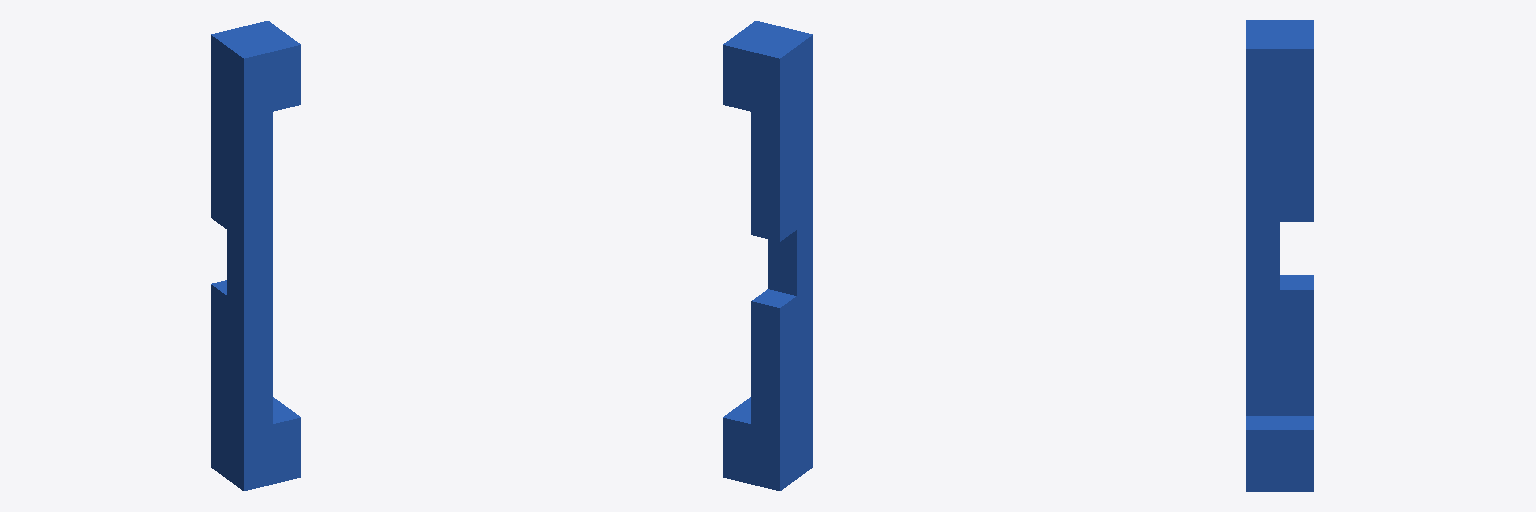
robot.urdf — obj_4:
<robot name="obj_4" version="1.0">
  <link name="obj_4">
    <collision name="long-piece-3-collision.001">
      <origin rpy="0.00000 0.00000 0.00000" xyz="0.00000 0.00000 0.00000"/>
      <geometry>
        <mesh filename="../meshes/obj/long-piece-3-collision.001.obj" scale="1.00000 1.00000 1.00000"/>
      </geometry>
    </collision>
    <collision name="long-piece-3-collision.002">
      <origin rpy="0.00000 0.00000 0.00000" xyz="0.00000 0.00000 0.00000"/>
      <geometry>
        <mesh filename="../meshes/obj/long-piece-3-collision.002.obj" scale="1.00000 1.00000 1.00000"/>
      </geometry>
    </collision>
    <collision name="long-piece-3-collision.003">
      <origin rpy="0.00000 0.00000 0.00000" xyz="0.00000 0.00000 0.00000"/>
      <geometry>
        <mesh filename="../meshes/obj/long-piece-3-collision.003.obj" scale="1.00000 1.00000 1.00000"/>
      </geometry>
    </collision>
    <collision name="long-piece-3-collision.004">
      <origin rpy="0.00000 0.00000 0.00000" xyz="0.00000 0.00000 0.00000"/>
      <geometry>
        <mesh filename="../meshes/obj/long-piece-3-collision.004.obj" scale="1.00000 1.00000 1.00000"/>
      </geometry>
    </collision>
    <collision name="long-piece-3-collision.005">
      <origin rpy="0.00000 0.00000 0.00000" xyz="0.00000 0.00000 0.00000"/>
      <geometry>
        <mesh filename="../meshes/obj/long-piece-3-collision.005.obj" scale="1.00000 1.00000 1.00000"/>
      </geometry>
    </collision>
    <inertial>
      <inertia ixx="0.00007" ixy="-0.00000" ixz="0.00000" iyy="0.00007" iyz="0.00000" izz="0.00000"/>
      <origin rpy="0.00000 0.00000 0.00000" xyz="-0.21372 0.18724 0.18000"/>
      <mass value="0.00500"/>
    </inertial>
    <visual name="long-piece-3">
      <material name="turnarrow"/>
      <origin rpy="-0.00000 1.57080 0.00000" xyz="-0.20573 0.19053 0.00000"/>
      <geometry>
        <mesh filename="../meshes/obj/long-piece.obj" scale="0.00500 0.00500 0.00500"/>
      </geometry>
    </visual>
  </link>
  <material name="turnarrow">
    <color rgba="0.23137 0.44706 0.80000 1.00000"/>
  </material>
</robot>

--- What the picture shows (computed from the rendered views, not written in the file) ---
3 views of the same robot in one strip: view 1: azimuth 30°, elevation 25°; view 2: azimuth 150°, elevation 25°; view 3: azimuth 270°, elevation 25° (orthographic).
Model obj_4 with 1 links and 0 joints (none), rooted at obj_4, posed all joints at 0.
Visible links, largest first — view 1: obj_4; view 2: obj_4; view 3: obj_4.
Link boxes in pixels (x1,y1,x2,y2): obj_4: (211, 21, 300, 490); obj_4: (723, 21, 812, 490); obj_4: (1246, 20, 1313, 491).
Size in the robot's own frame: 0.05 by 0.05 by 0.36 metres.
1 mesh visuals loaded from 1 distinct referenced files (1 OBJ).